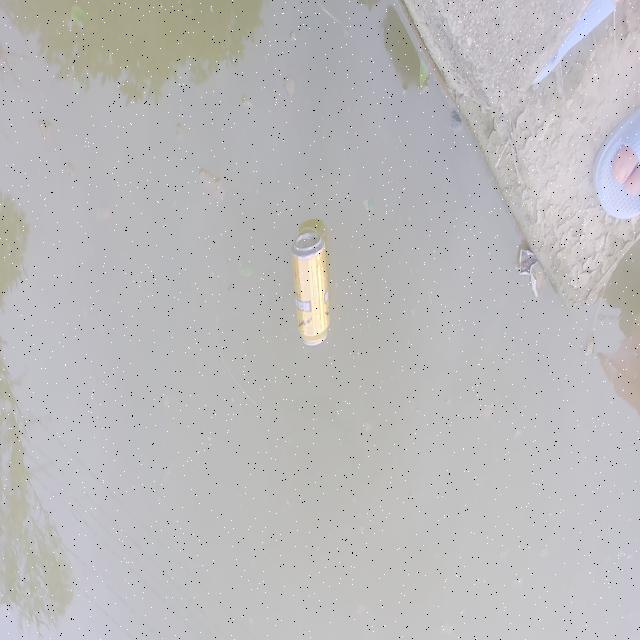Can: (289, 221, 334, 355)
